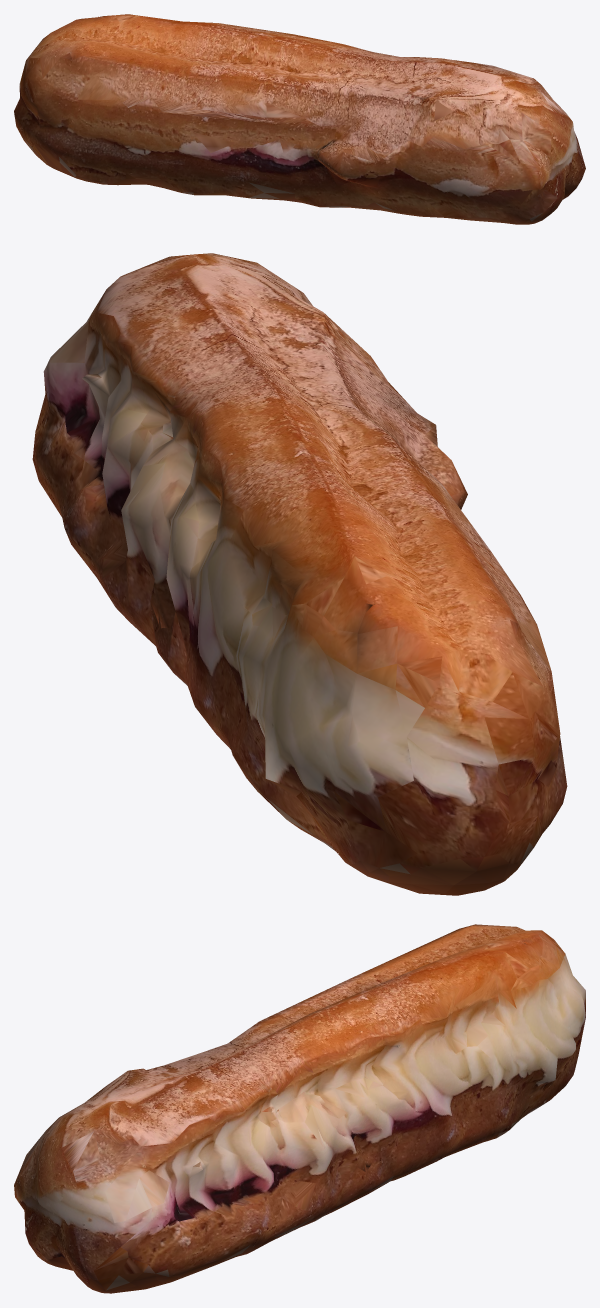
File: eclaire_1516.obj
3 renders of one model, top to bottom at view 1: azimuth 30°, elevation 25°; view 2: azimuth 150°, elevation 25°; view 3: azimuth 270°, elevation 25°, orthographic. The views are drawn at different scales.
Size of the model in its own units: 93.9 by 31.74 by 91.23.
Materials: 1 (1 with a texture image).
